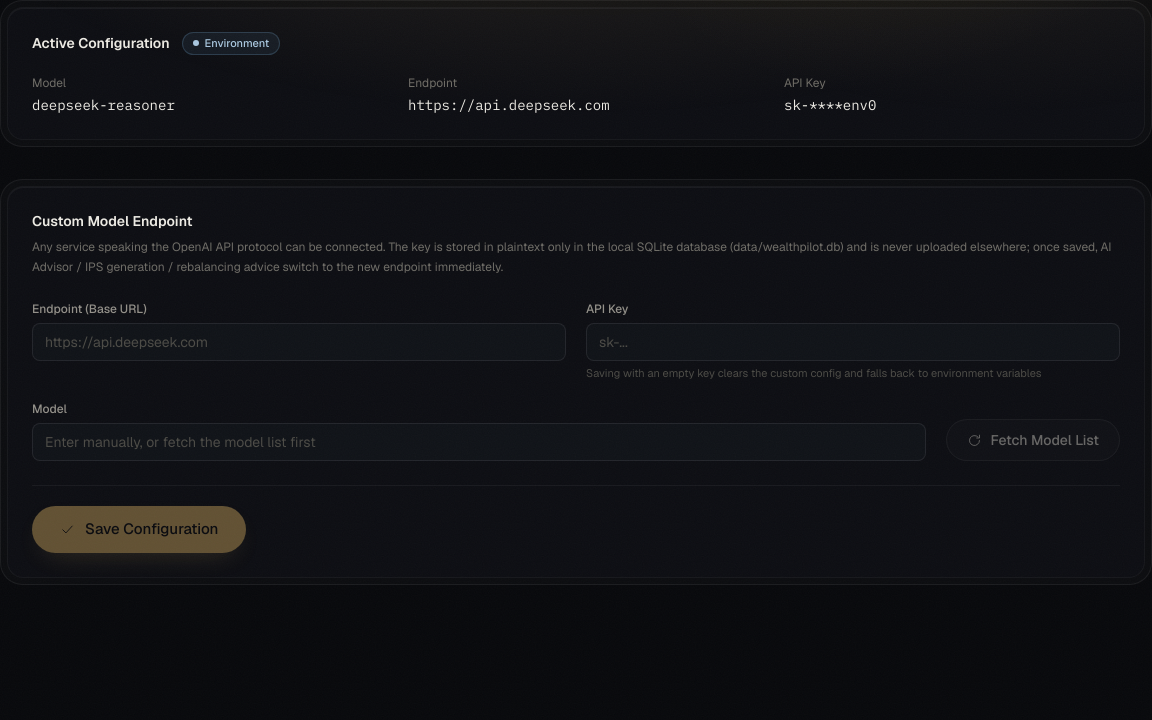
Scenario: SettingsForm model fetching › fetches models and switches the model field to a select
Type "https://api.example.com" into the field with placeholder "https://api.deepseek.com".
click(299, 342); type("https://api.example.com")  # box x1=32 y1=322 x2=566 y2=360
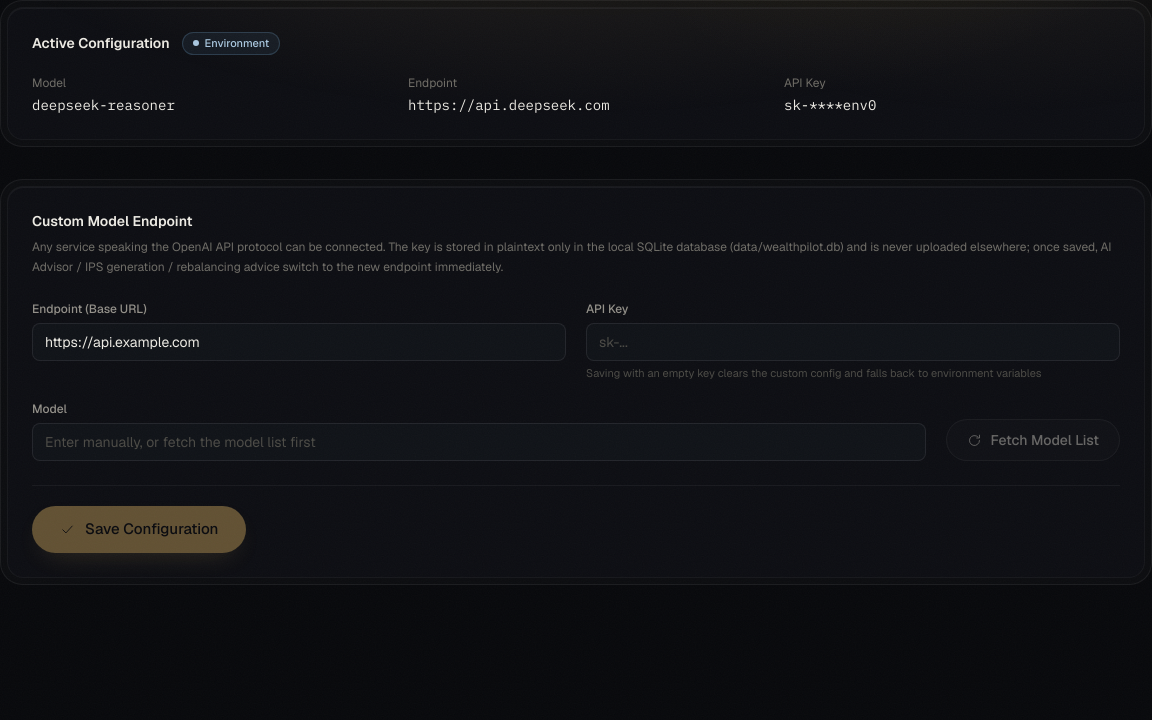
Type "sk-test-key" into the password field with placeholder "sk-...".
click(853, 342); type("sk-test-key")  # box x1=586 y1=322 x2=1120 y2=360
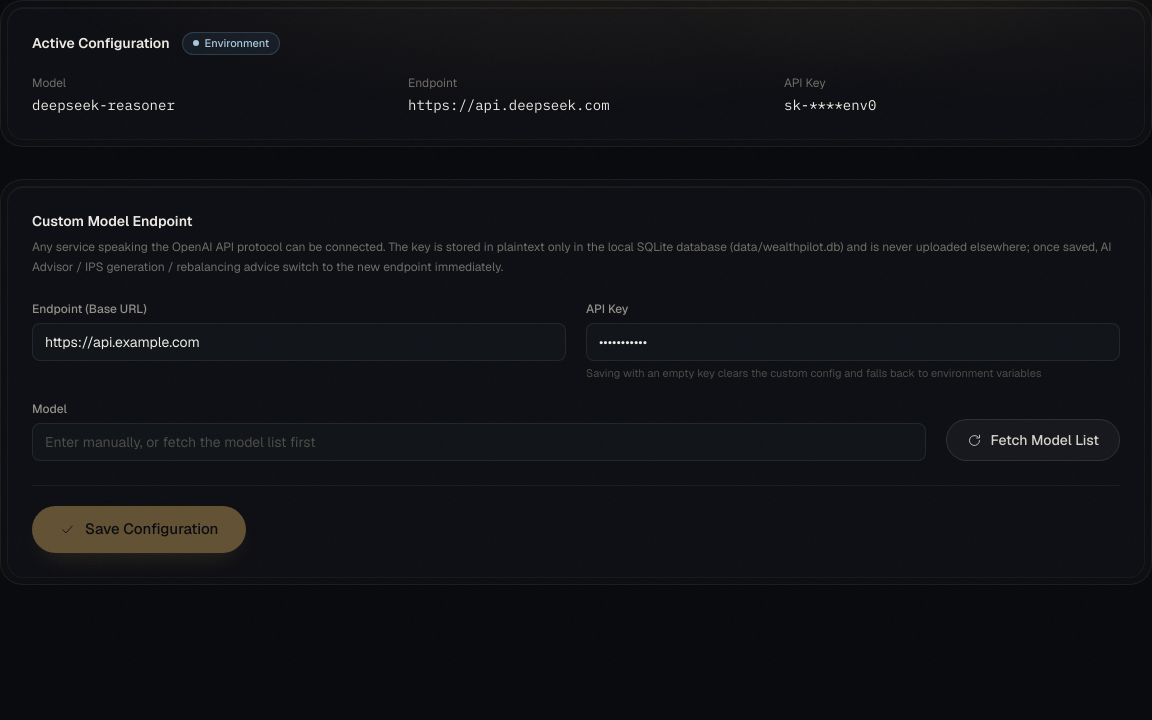
Type "my-model" into the field with placeholder "Enter manually, or fetch the model list first".
click(479, 442); type("my-model")  # box x1=32 y1=423 x2=926 y2=461
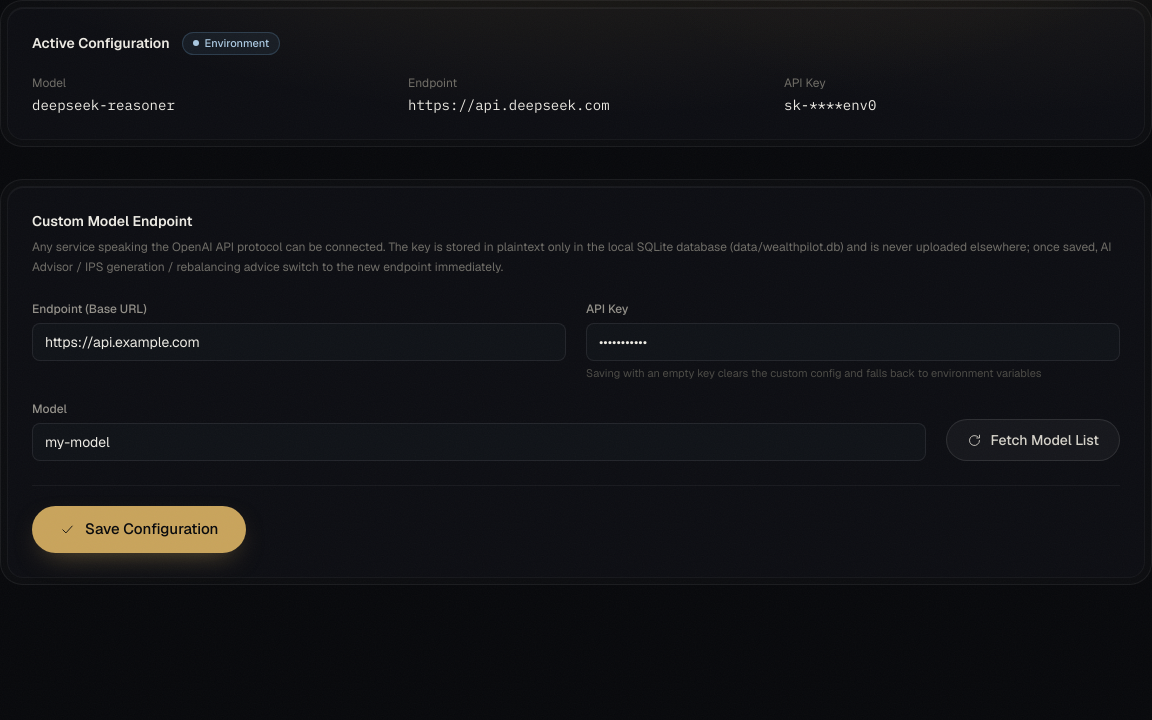
Click the button "Fetch Model List".
click(1033, 440)  # box x1=946 y1=419 x2=1120 y2=461
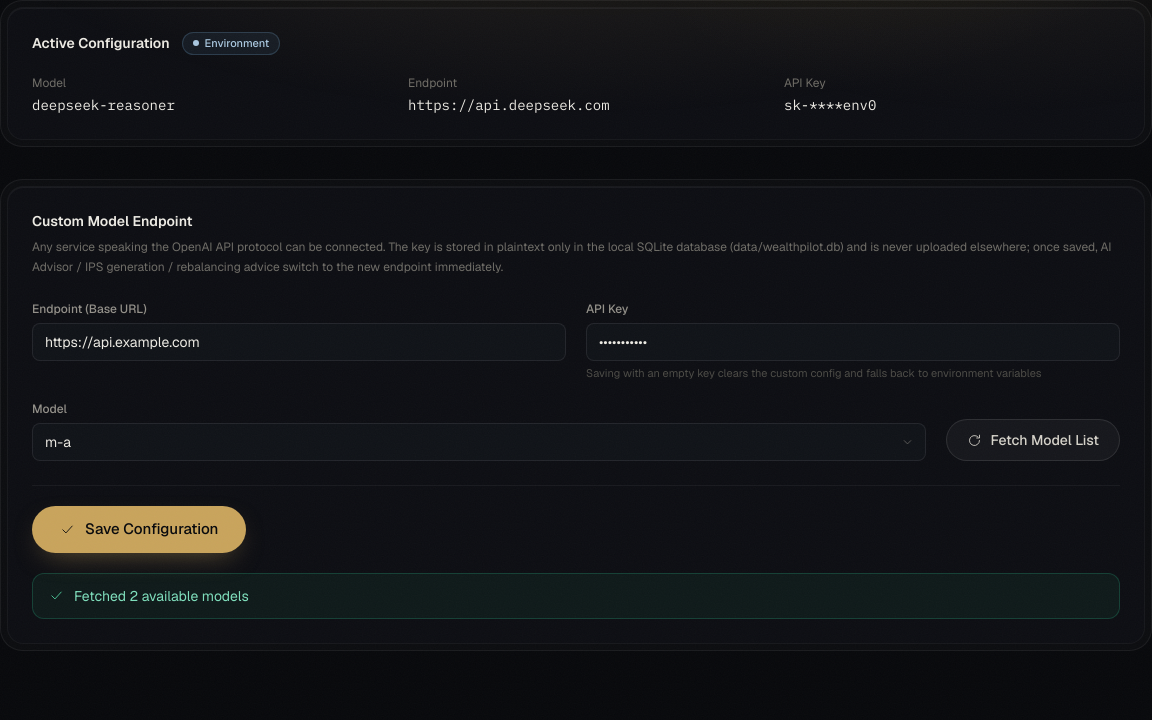
Check: the text "Fetched 2 available models" is shown, box x1=32 y1=572 x2=1120 y2=618
Check: the dropdown shows "m-a", box x1=32 y1=423 x2=926 y2=461
